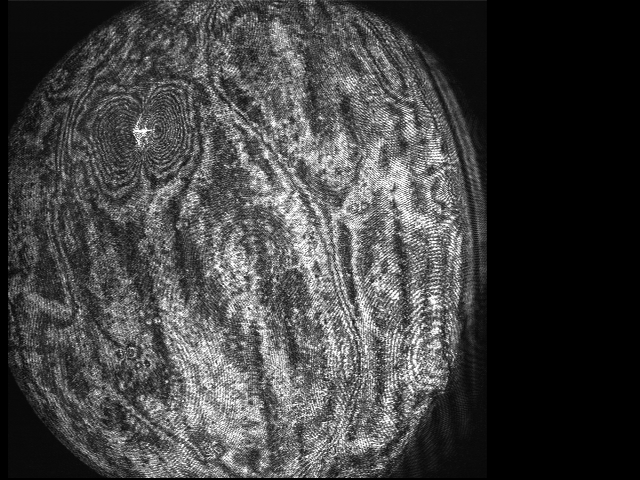plume: (88, 83, 198, 191)
